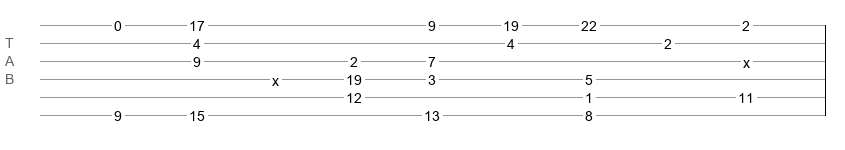0: (114, 18, 122, 28)
1: (585, 90, 593, 100)
11: (738, 90, 754, 100)
12: (346, 90, 362, 100)
13: (424, 108, 440, 118)
15: (189, 108, 205, 118)
17: (189, 18, 205, 28)
19: (346, 72, 362, 82), (503, 18, 519, 28)
2: (350, 54, 358, 64), (664, 36, 672, 46), (742, 18, 750, 28)
22: (581, 18, 597, 28)
3: (428, 72, 436, 82)
4: (193, 36, 201, 46), (507, 36, 515, 46)
5: (585, 72, 593, 82)
7: (428, 54, 436, 64)
8: (585, 108, 593, 118)
9: (114, 108, 122, 118), (193, 54, 201, 64), (428, 18, 436, 28)
x: (272, 73, 279, 81), (743, 55, 750, 63)
